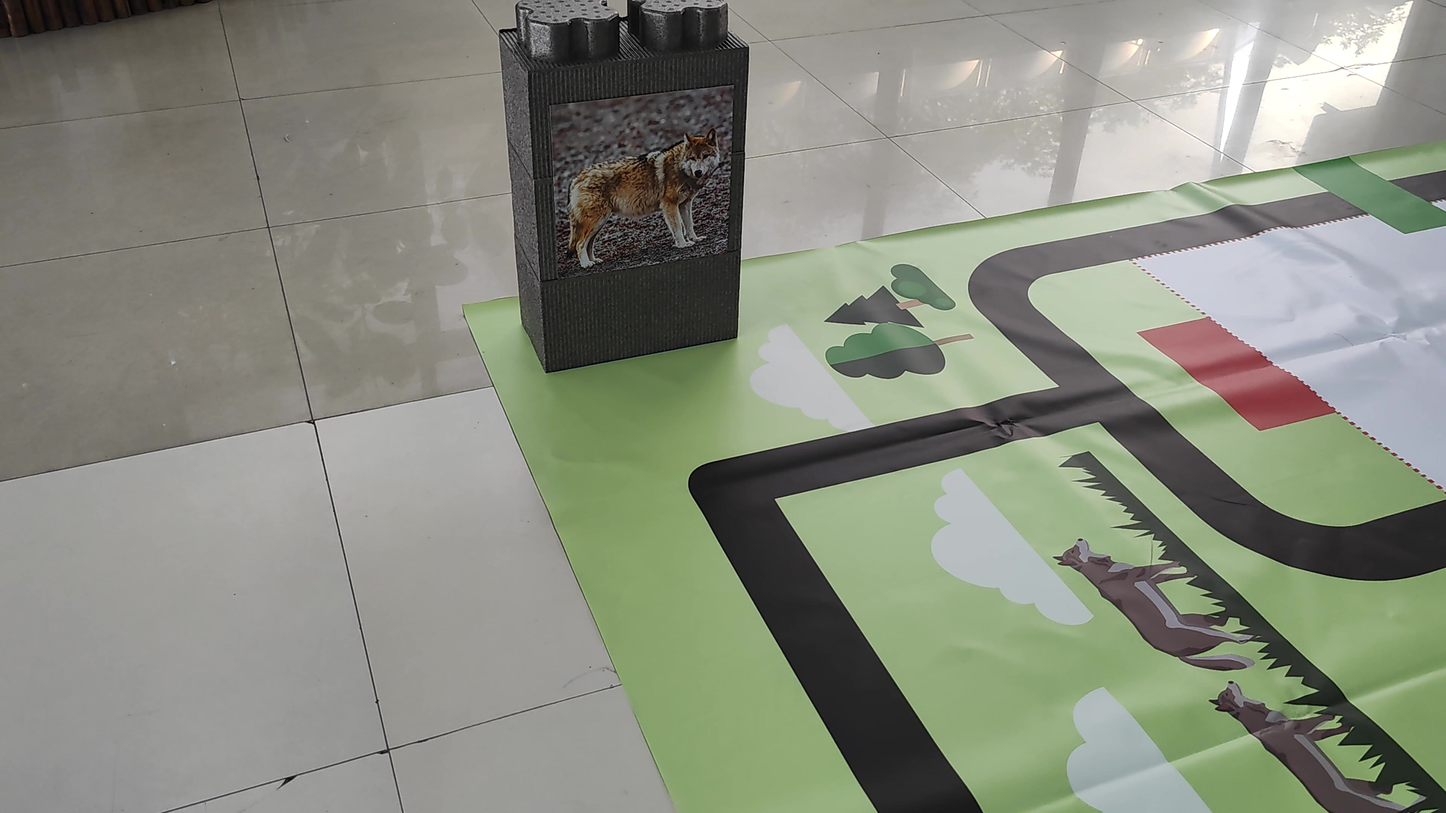wolf: (551, 122, 735, 283)
